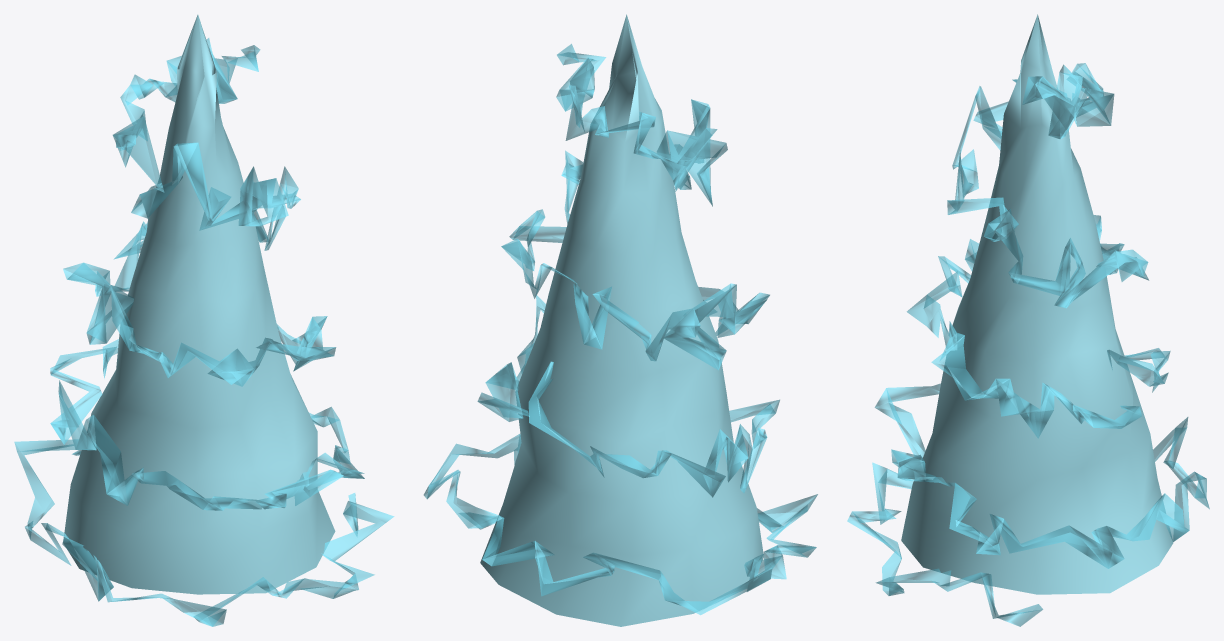
File: Beam1.FBX
3 renders of one model, left to right at view 1: azimuth 30°, elevation 25°; view 2: azimuth 150°, elevation 25°; view 3: azimuth 270°, elevation 25°, orthographic. The views are drawn at different scales.
Visible parts, largest first — view 1: Cone001, Helix001; view 2: Cone001, Helix001; view 3: Cone001, Helix001.
Boxes of the visible parts, x1=… form: Cone001: x1=63, y1=14, x2=335, y2=594; Helix001: x1=14, y1=38, x2=394, y2=626; Cone001: x1=480, y1=14, x2=763, y2=626; Helix001: x1=423, y1=44, x2=817, y2=614; Cone001: x1=901, y1=14, x2=1173, y2=594; Helix001: x1=847, y1=63, x2=1209, y2=626.
Size of the model in its own units: 529 by 869 by 524.
